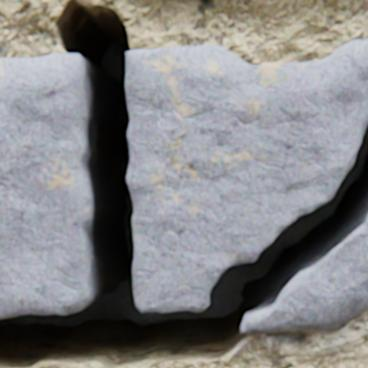broken_brick: (126, 41, 367, 312), (0, 55, 92, 318), (240, 215, 367, 333)
crack: (0, 0, 367, 367)
